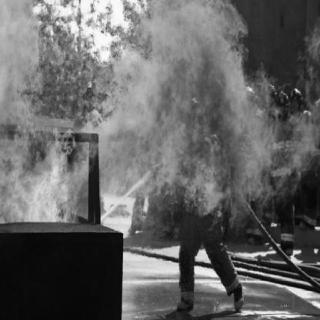Fire: (1, 2, 301, 220)
